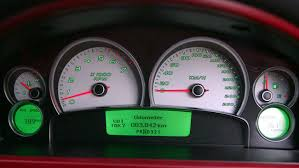Digital_Meter: (105, 111, 194, 139)
